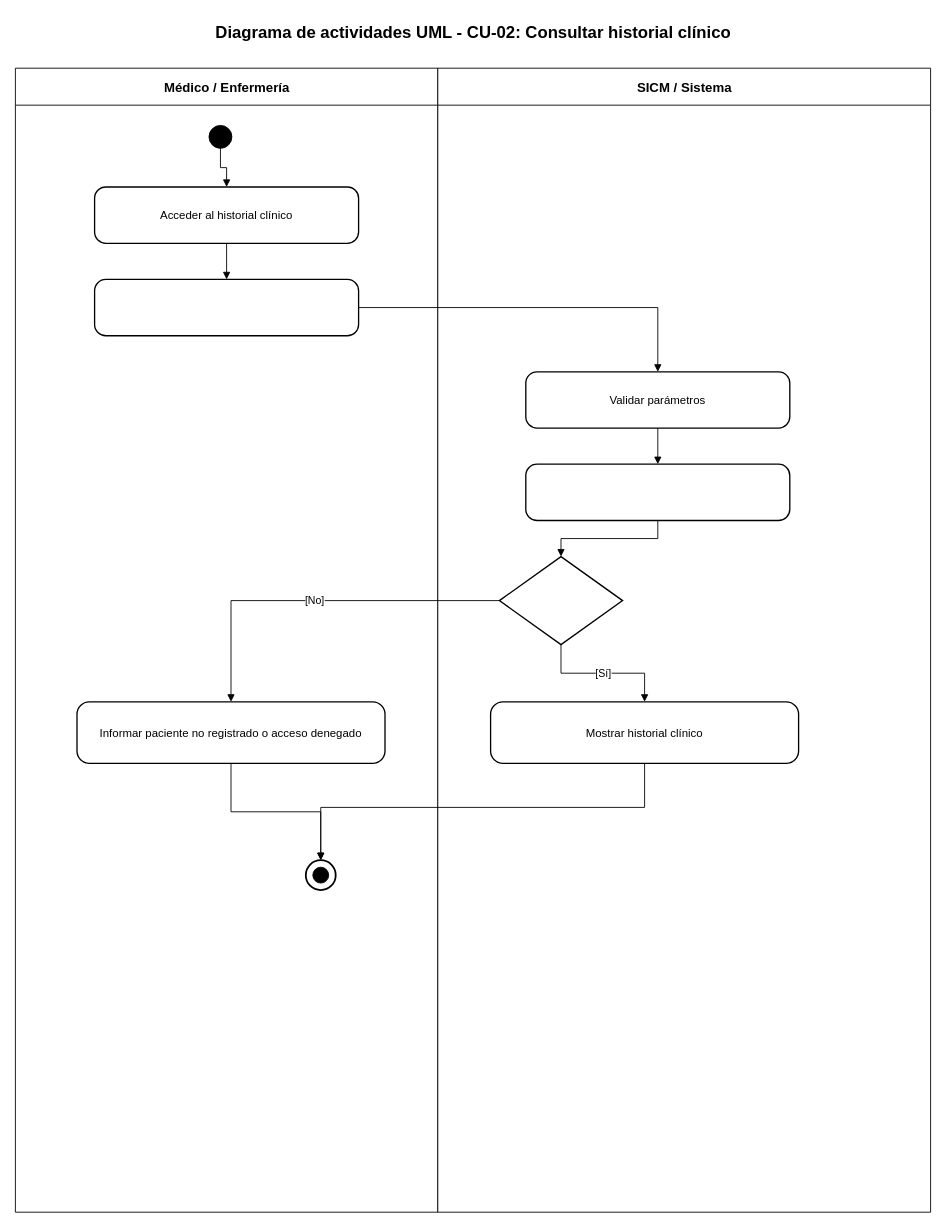
The diagram is 946 pixels wide and 1228 high, and some of its shapes have lost their labels. Here are the shapes that lost their labels. From the top down, the centre of each, then its label:
(x=226, y=307): Ingresar cédula o iniciales
(x=657, y=492): Buscar paciente en la base de datos
(x=560, y=600): ¿Paciente encontrado y acceso autorizado?
